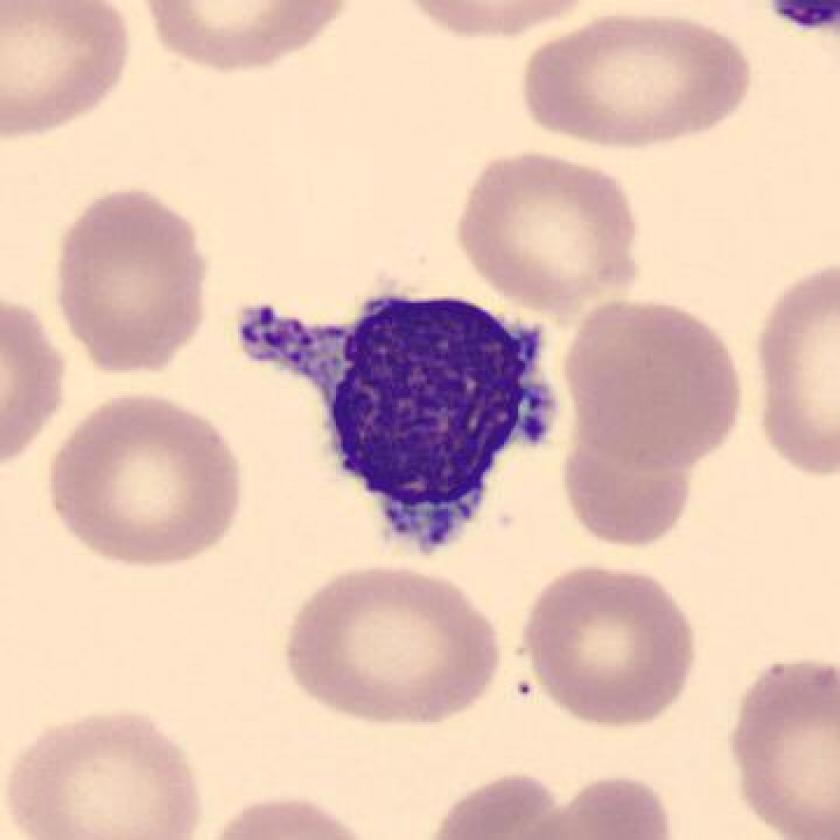lymphocyte: (223, 281, 573, 561)
